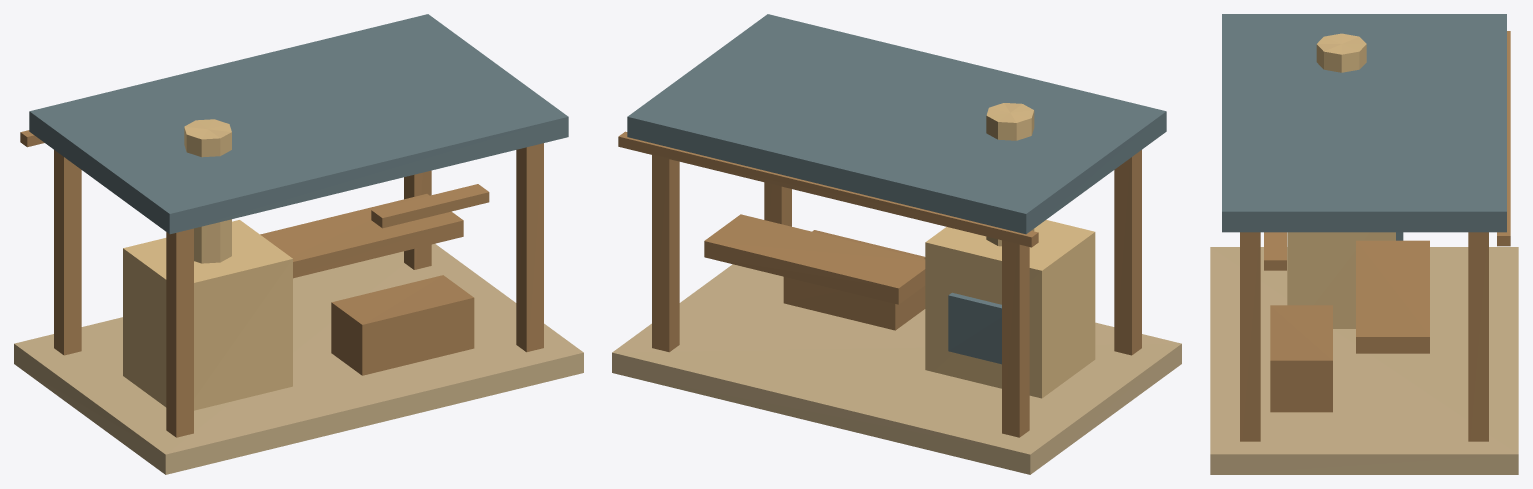
File: farm-to-table-restaurant.source.glb
3 renders of one model, left to right at view 1: azimuth 30°, elevation 25°; view 2: azimuth 150°, elevation 25°; view 3: azimuth 270°, elevation 25°, orthographic.
Parts seen in each view (by area): view 1: cookhouse-low-gable-roof-mesh, cookhouse-concrete-foundation-mesh, cookhouse-brick-hearth-mesh, cookhouse-wood-rack-mesh, cookhouse-prep-counter-mesh, cookhouse-cookhouse-post--1.8-1-mesh, cookhouse-cookhouse-post-1.8-1-mesh, cookhouse-cookhouse-post--1.8--1-mesh, cookhouse-hearth-chimney-mesh, cookhouse-empty-wall-shelf-mesh, cookhouse-cookhouse-post-1.8--1-mesh; view 2: cookhouse-low-gable-roof-mesh, cookhouse-concrete-foundation-mesh, cookhouse-brick-hearth-mesh, cookhouse-prep-counter-mesh, cookhouse-cookhouse-post--1.8-1-mesh, cookhouse-cookhouse-post--1.8--1-mesh, cookhouse-cookhouse-post-1.8--1-mesh, cookhouse-teal-fascia-mesh, cookhouse-wood-rack-mesh, cookhouse-hearth-opening-mesh, cookhouse-hearth-chimney-mesh, cookhouse-cookhouse-post-1.8-1-mesh; view 3: cookhouse-low-gable-roof-mesh, cookhouse-concrete-foundation-mesh, cookhouse-prep-counter-mesh, cookhouse-wood-rack-mesh, cookhouse-brick-hearth-mesh, cookhouse-cookhouse-post-1.8--1-mesh, cookhouse-cookhouse-post-1.8-1-mesh, cookhouse-hearth-chimney-mesh, cookhouse-teal-fascia-mesh, cookhouse-empty-wall-shelf-mesh.
Part boxes in pixels (bbox=[...]): cookhouse-low-gable-roof-mesh: bbox=[29, 14, 568, 234]; cookhouse-concrete-foundation-mesh: bbox=[14, 244, 583, 474]; cookhouse-brick-hearth-mesh: bbox=[123, 220, 292, 410]; cookhouse-wood-rack-mesh: bbox=[331, 275, 474, 375]; cookhouse-prep-counter-mesh: bbox=[260, 194, 463, 278]; cookhouse-cookhouse-post--1.8-1-mesh: bbox=[166, 228, 193, 437]; cookhouse-cookhouse-post-1.8-1-mesh: bbox=[516, 143, 543, 352]; cookhouse-cookhouse-post--1.8--1-mesh: bbox=[54, 150, 81, 355]; cookhouse-hearth-chimney-mesh: bbox=[184, 119, 231, 263]; cookhouse-empty-wall-shelf-mesh: bbox=[371, 184, 489, 228]; cookhouse-cookhouse-post-1.8--1-mesh: bbox=[404, 170, 431, 269]; cookhouse-low-gable-roof-mesh: bbox=[627, 14, 1166, 234]; cookhouse-concrete-foundation-mesh: bbox=[612, 264, 1181, 474]; cookhouse-brick-hearth-mesh: bbox=[925, 220, 1095, 398]; cookhouse-prep-counter-mesh: bbox=[704, 214, 925, 304]; cookhouse-cookhouse-post--1.8-1-mesh: bbox=[1114, 150, 1141, 355]; cookhouse-cookhouse-post--1.8--1-mesh: bbox=[1002, 240, 1029, 437]; cookhouse-cookhouse-post-1.8--1-mesh: bbox=[652, 155, 679, 352]; cookhouse-teal-fascia-mesh: bbox=[618, 131, 1038, 247]; cookhouse-wood-rack-mesh: bbox=[783, 230, 925, 330]; cookhouse-hearth-opening-mesh: bbox=[948, 292, 1001, 364]; cookhouse-hearth-chimney-mesh: bbox=[986, 103, 1034, 246]; cookhouse-cookhouse-post-1.8-1-mesh: bbox=[764, 182, 791, 226]; cookhouse-low-gable-roof-mesh: bbox=[1222, 14, 1506, 232]; cookhouse-concrete-foundation-mesh: bbox=[1210, 247, 1518, 474]; cookhouse-prep-counter-mesh: bbox=[1356, 240, 1429, 353]; cookhouse-wood-rack-mesh: bbox=[1270, 305, 1332, 412]; cookhouse-brick-hearth-mesh: bbox=[1287, 232, 1395, 328]; cookhouse-cookhouse-post-1.8--1-mesh: bbox=[1468, 232, 1488, 441]; cookhouse-cookhouse-post-1.8-1-mesh: bbox=[1240, 232, 1260, 441]; cookhouse-hearth-chimney-mesh: bbox=[1316, 33, 1366, 72]; cookhouse-teal-fascia-mesh: bbox=[1497, 31, 1510, 246]; cookhouse-empty-wall-shelf-mesh: bbox=[1264, 232, 1286, 270].
Bounding box in the file's own units: 4.3 × 2.68 × 2.7.
